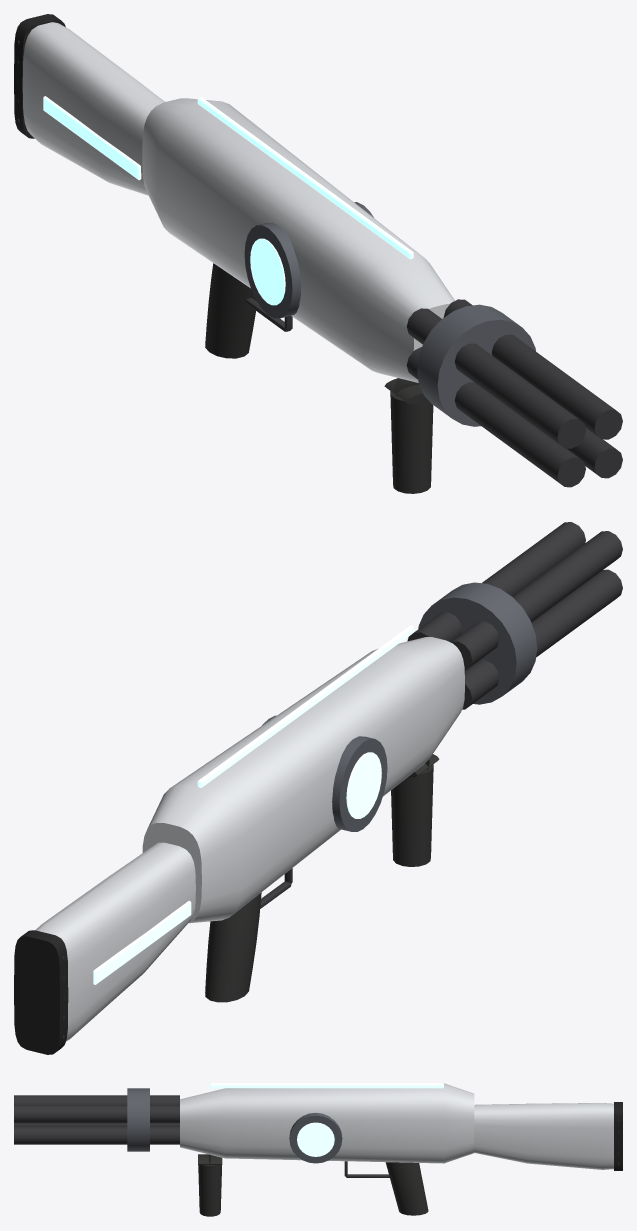
Rendered from pulsebuster.glb.
3 renders of one model, top to bottom at view 1: azimuth 30°, elevation 25°; view 2: azimuth 150°, elevation 25°; view 3: azimuth 270°, elevation 25°, orthographic. The views are drawn at different scales.
Visible parts, largest first — view 1: Body; view 2: Body; view 3: Body.
Part boxes in pixels (<box>): Body: <box>14,14,622,493</box>; Body: <box>14,522,622,1054</box>; Body: <box>14,1083,622,1216</box>.
Bounding box in the file's own units: 0.084 × 0.188 × 0.807.
